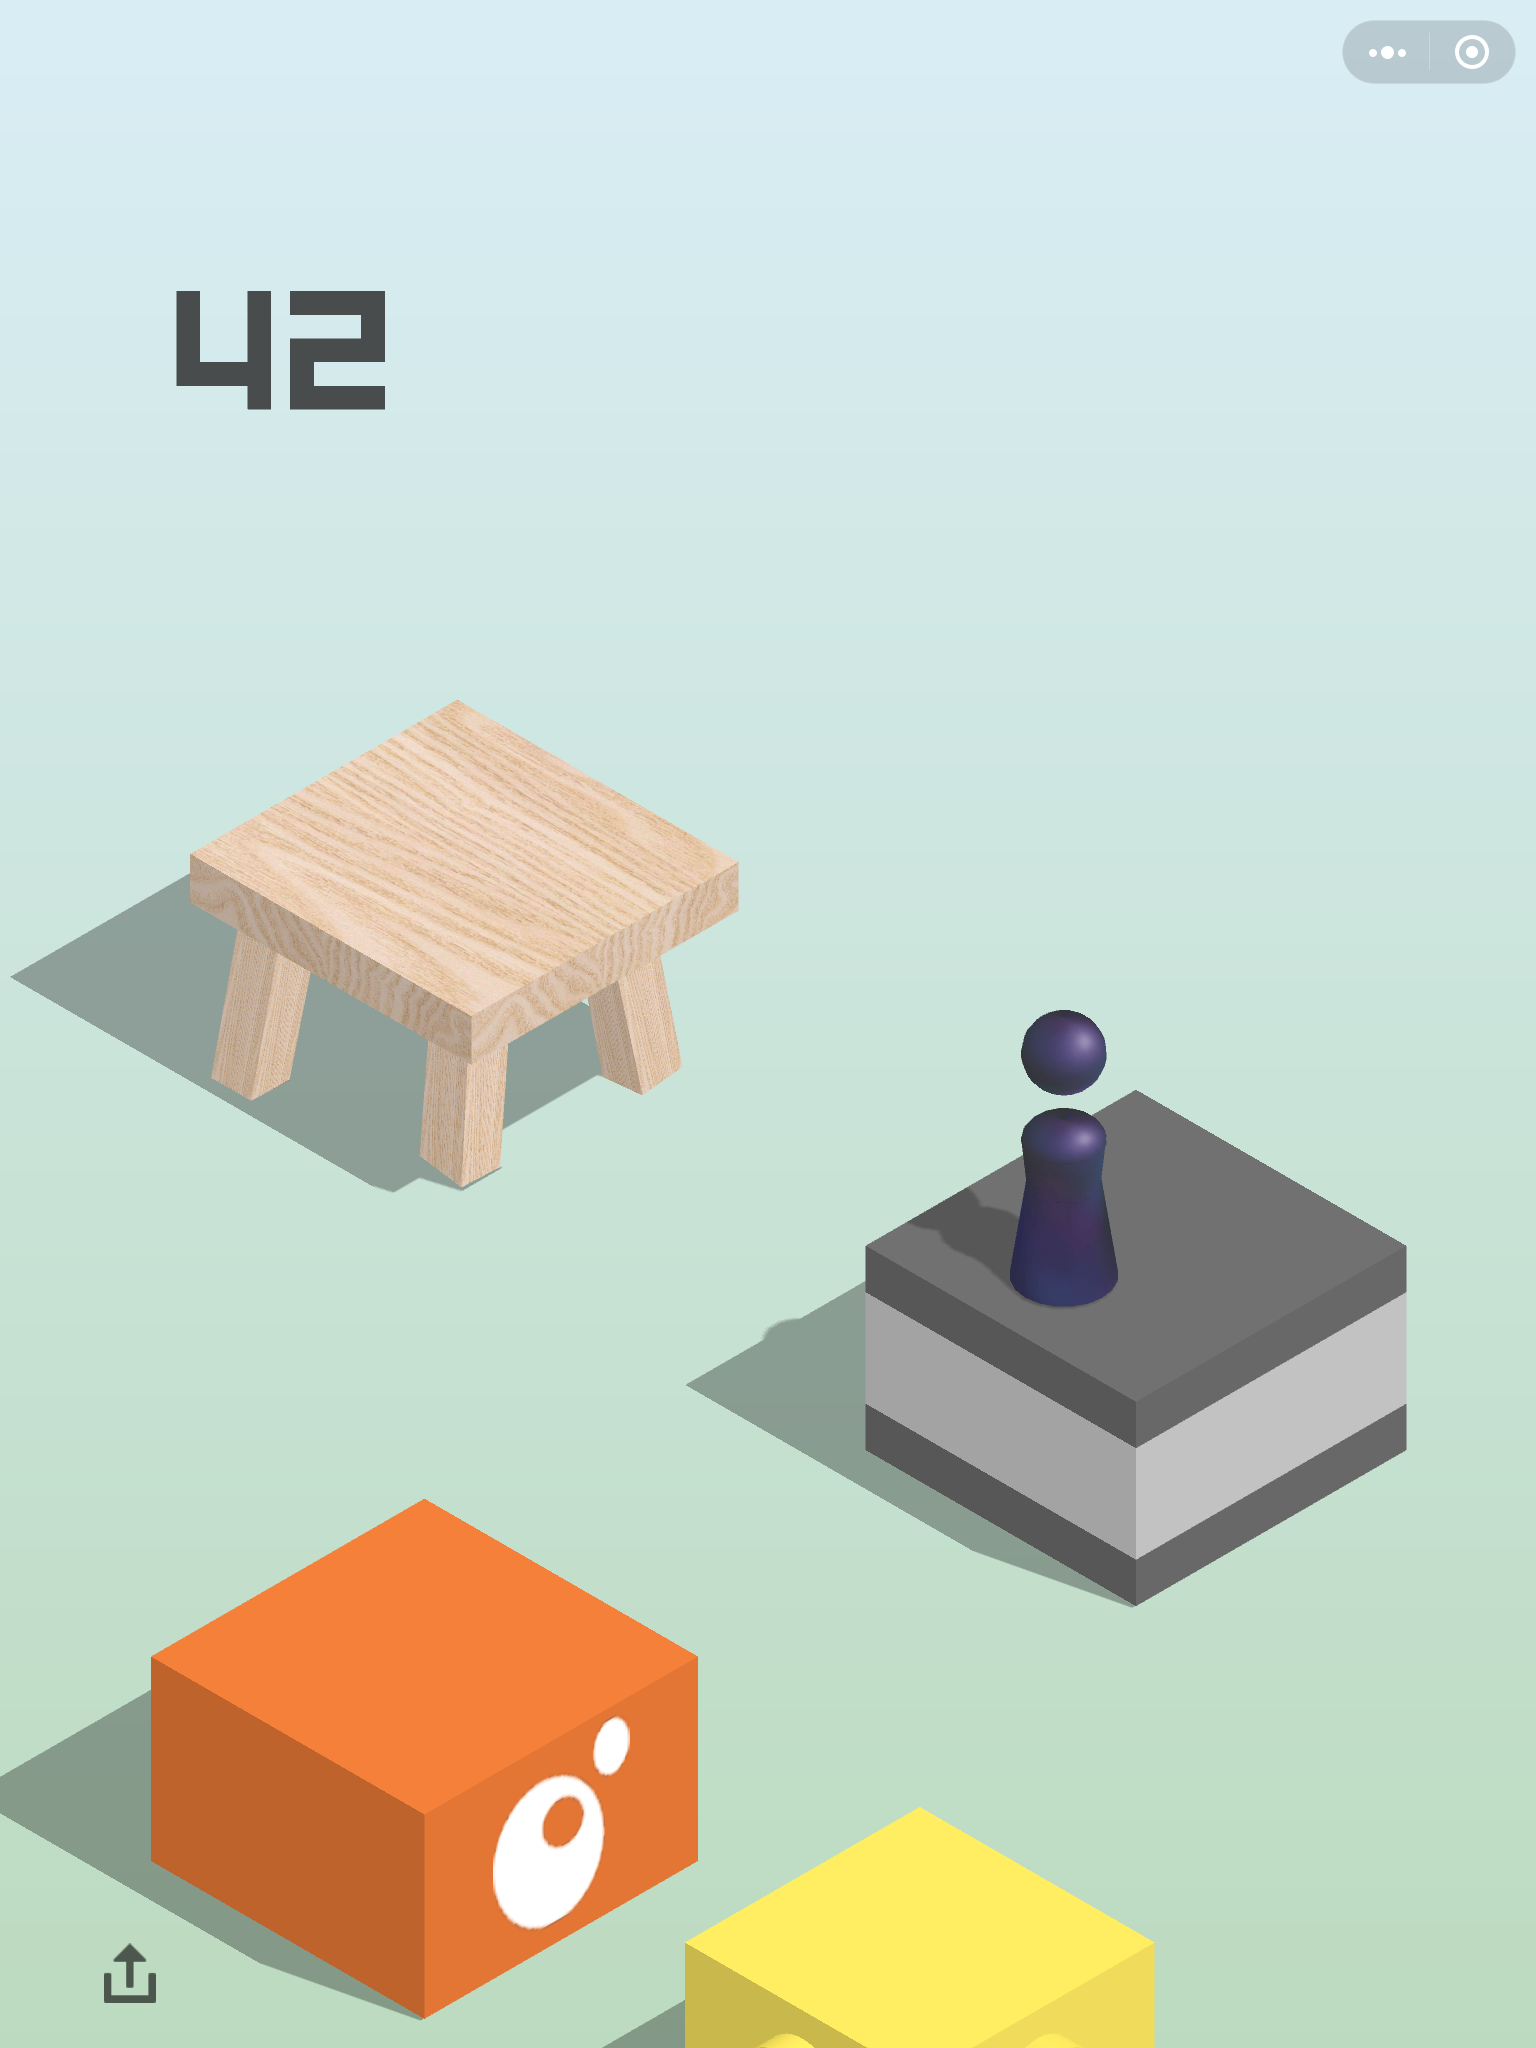f: (145, 1496, 707, 2025), (857, 1085, 1413, 1613), (182, 695, 744, 1192), (678, 1800, 1165, 2048)
r: (1004, 1005, 1125, 1311)
